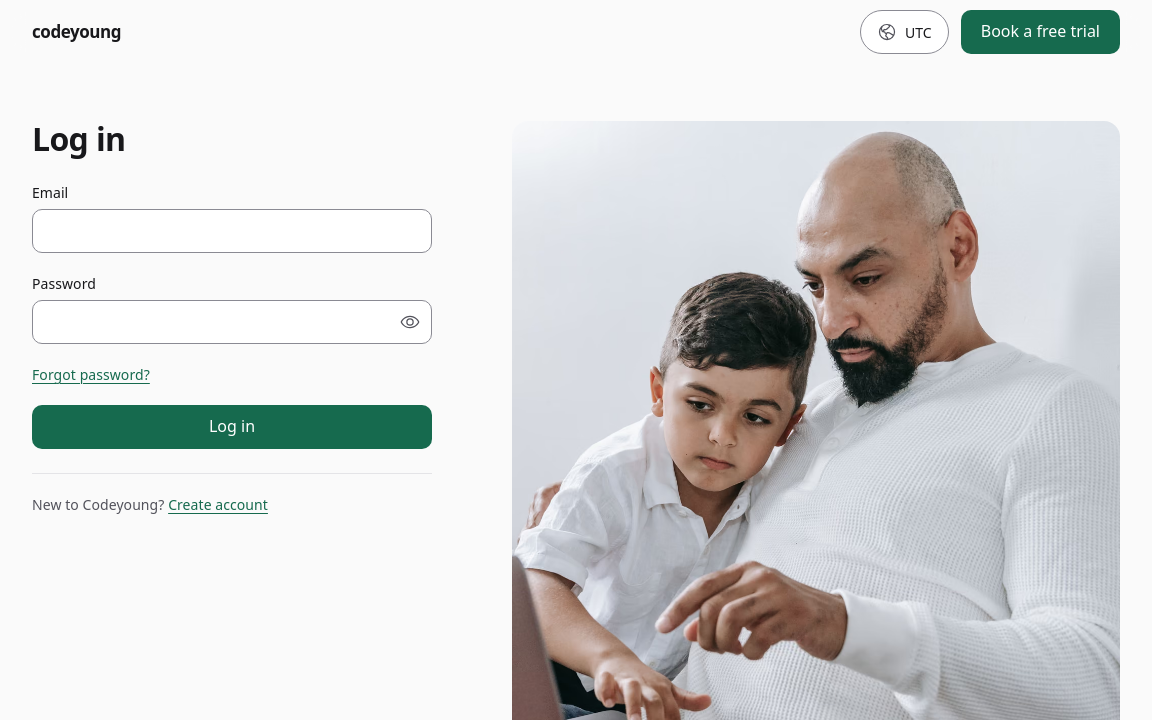
Test: log in › tells a locked-out parent when to try again
Expected: the heading "Log in" is shown, [32,117,125,160]
In the field labelled "Email": (232, 231) [32,209,432,253], type "hannah@okafor.co.uk"
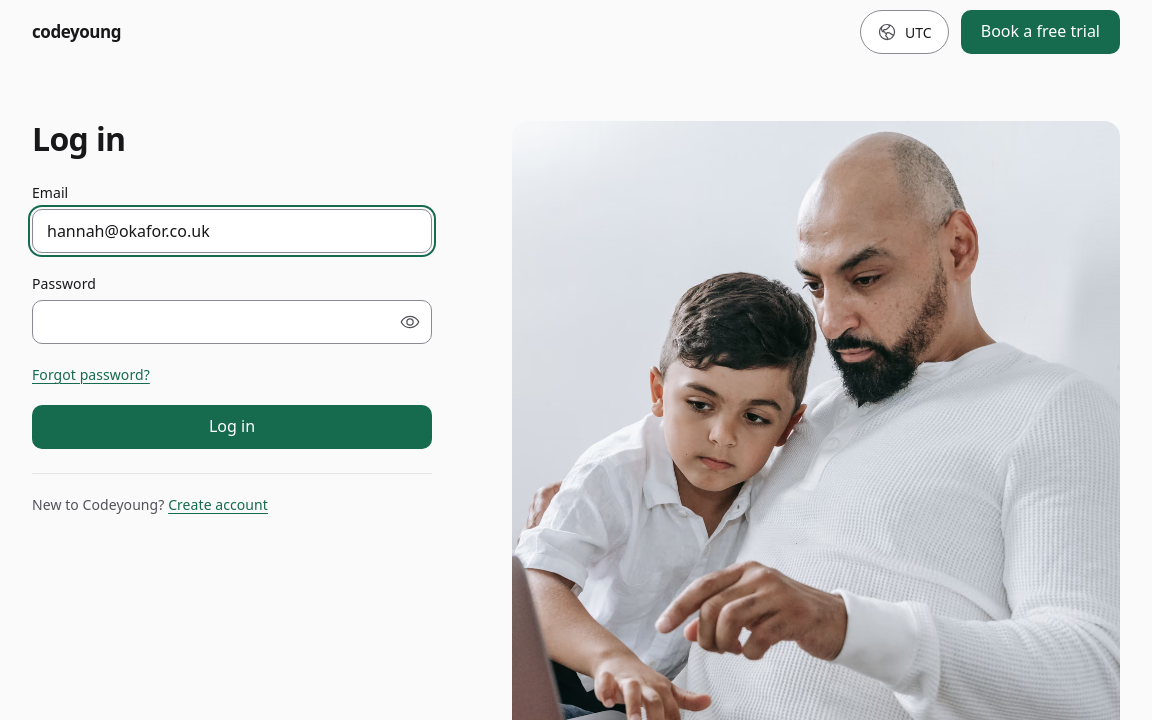
In the password field labelled "Password": (232, 322) [32,300,432,344], type "whatever-it-is"
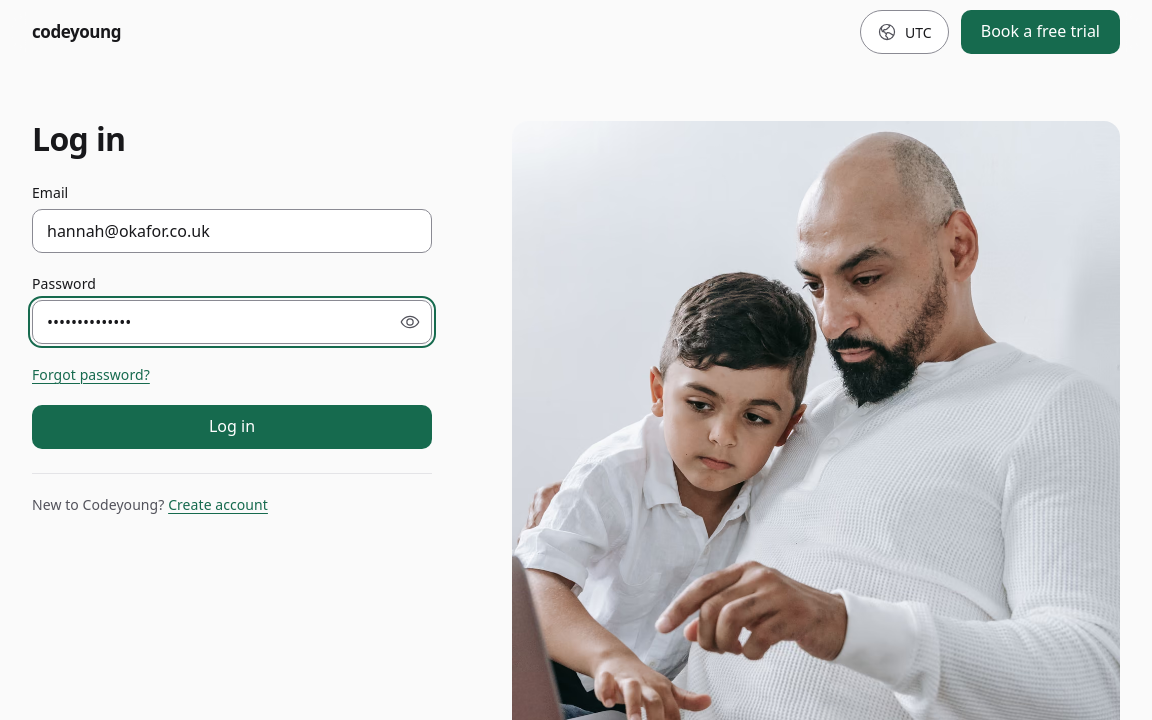
Click the button "Log in": (232, 427) [32,405,432,449]
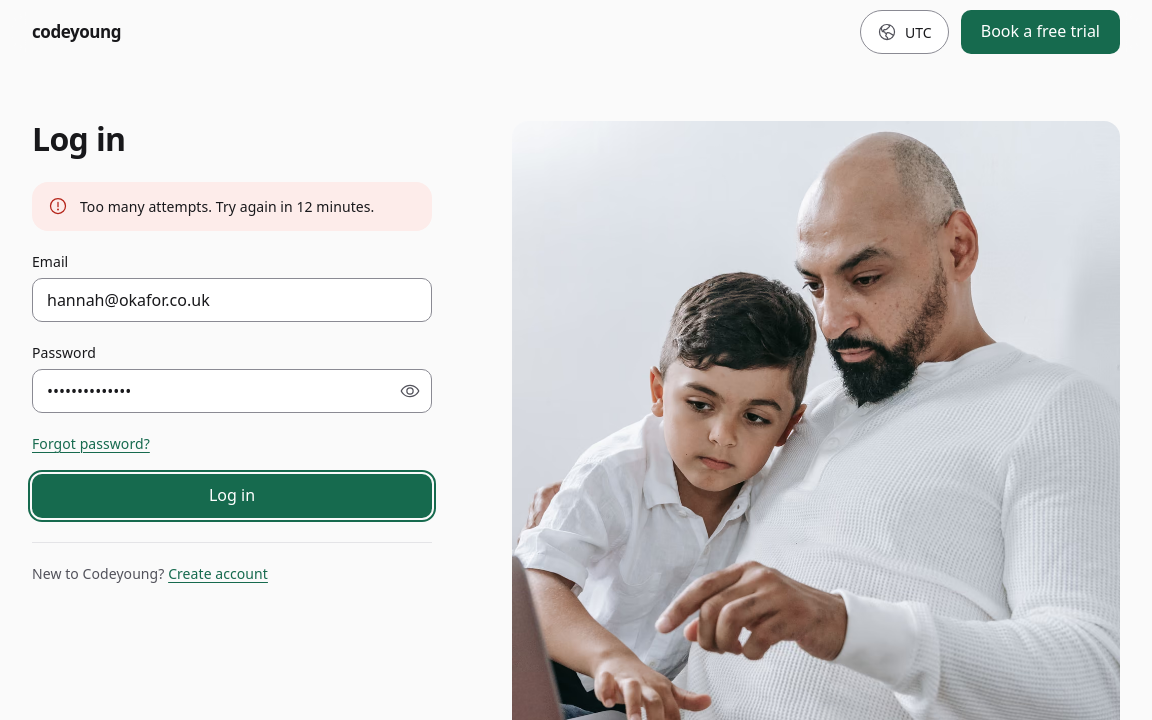
Now the message reads "Too many attempts. Try again in 12 minutes.", box [80,197,374,216]
